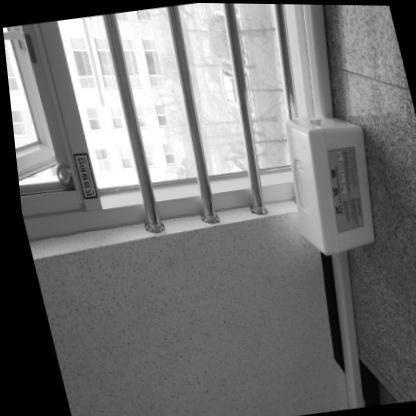DDL: (271, 109, 387, 257)
